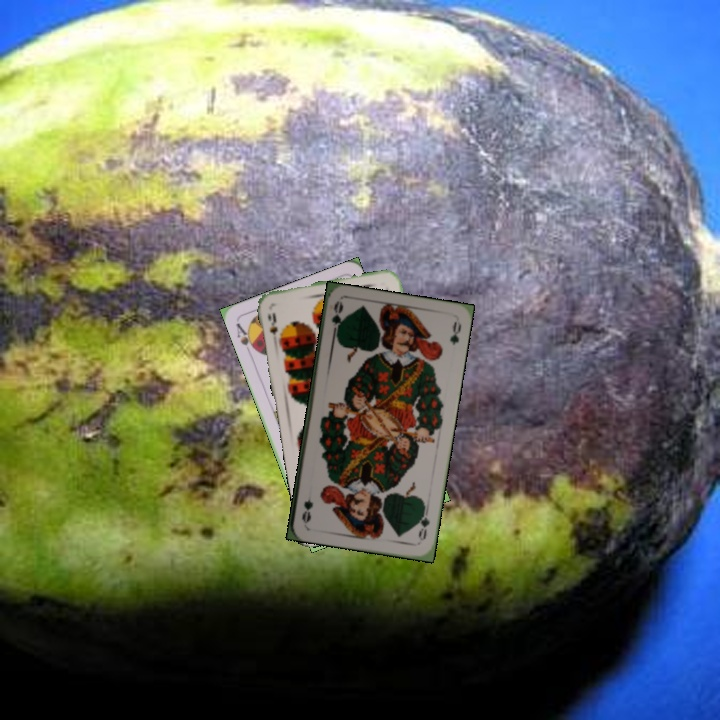GO: (328, 298, 346, 339), (414, 503, 432, 543)
S9: (264, 308, 285, 345)
SA: (232, 319, 260, 357)
